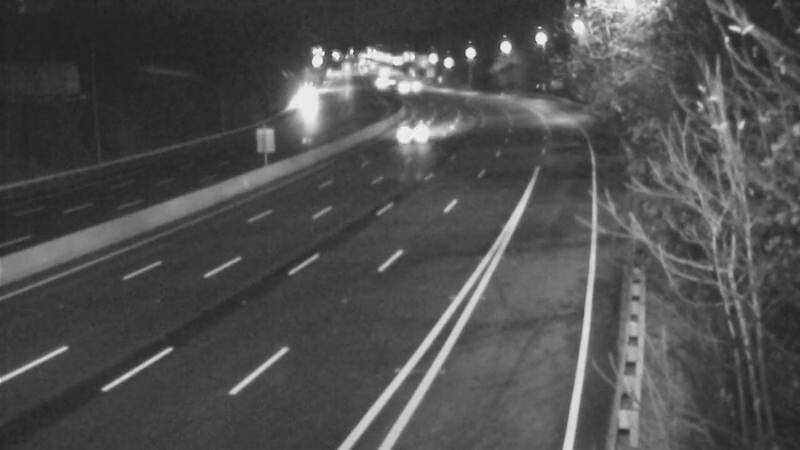vehicle: (389, 109, 439, 159)
